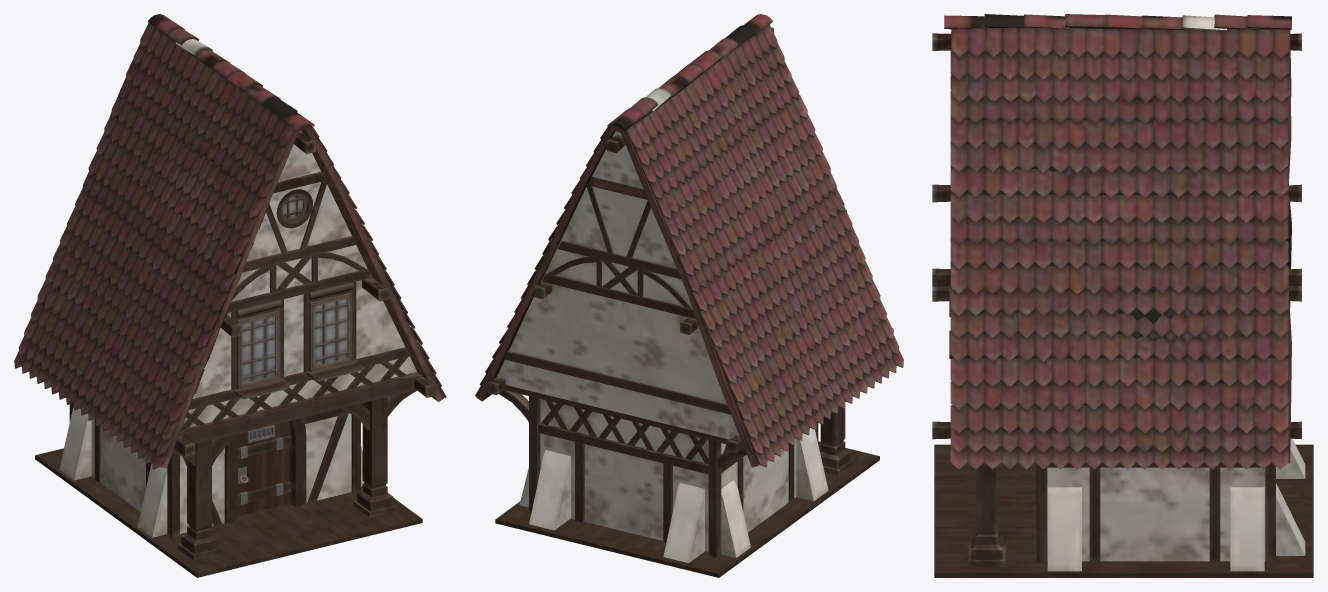
The model's file is house_gable.glb.
3 renders of one model, left to right at view 1: azimuth 30°, elevation 25°; view 2: azimuth 150°, elevation 25°; view 3: azimuth 270°, elevation 25°, orthographic. The views are drawn at different scales.
Visible parts, largest first — view 1: Plane001__0; view 2: Plane001__0; view 3: Plane001__0.
Boxes of the visible parts, left/top/right/bottom form: Plane001__0: left=14, top=14, right=446, bottom=577; Plane001__0: left=475, top=14, right=903, bottom=577; Plane001__0: left=932, top=14, right=1313, bottom=577.
Size of the model in its own units: 6.48 by 8.98 by 6.23.
Materials: 1 (1 with a texture image).
